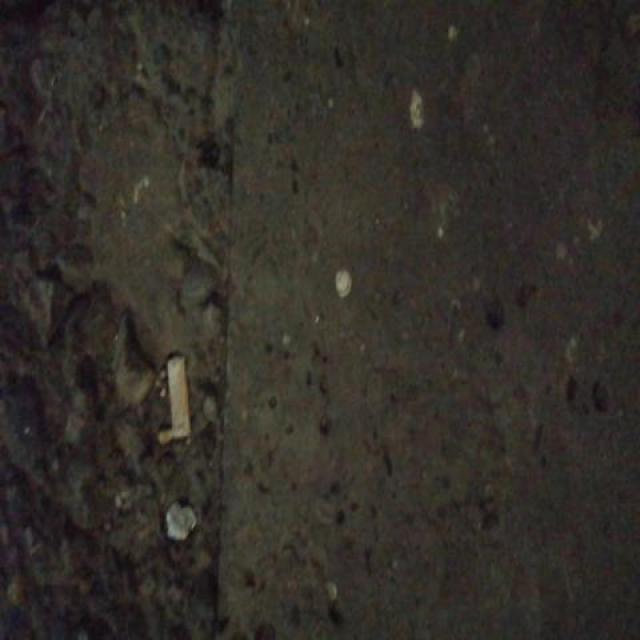non-organic waste: (162, 353, 194, 446)
